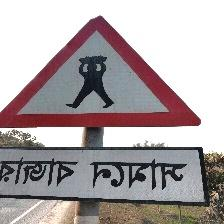Market-in-front: (0, 15, 207, 204)
